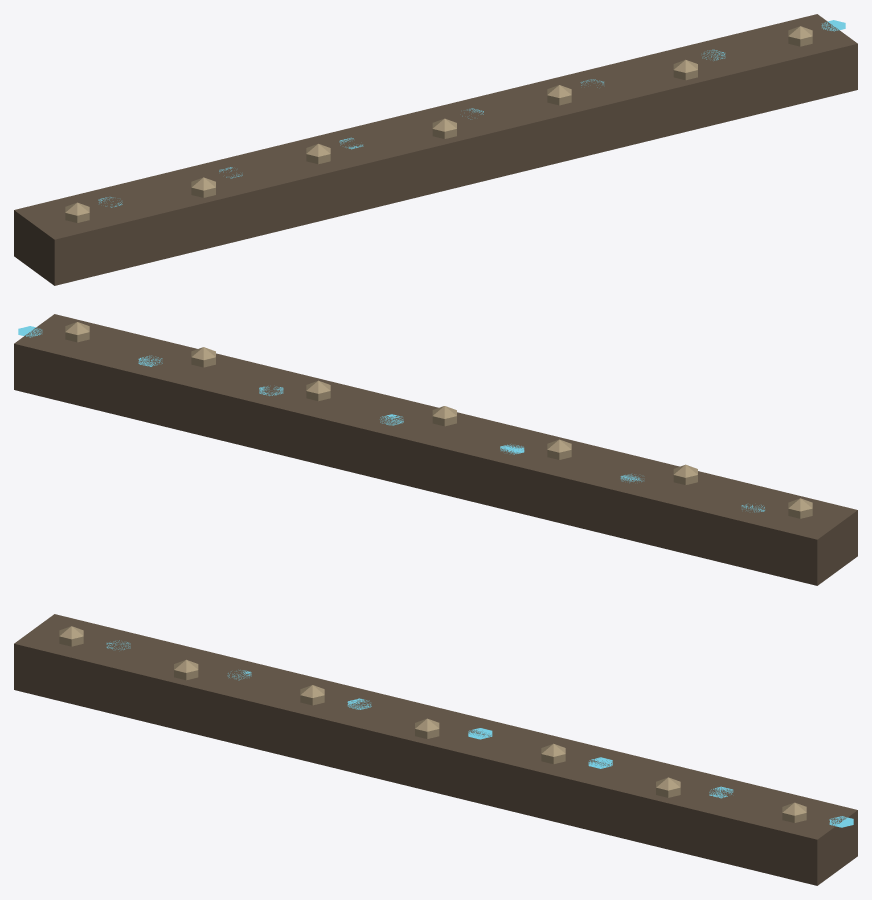
Rendered from overlay_1.fbx.
The picture shows the model from 3 angles, top to bottom: view 1: azimuth 30°, elevation 25°; view 2: azimuth 150°, elevation 25°; view 3: azimuth 330°, elevation 25°; orthographic projection.
Parts seen in each view (by area): view 1: overlay_1; view 2: overlay_1; view 3: overlay_1.
Part boxes in pixels (<box>): overlay_1: <box>14,14,857,285</box>; overlay_1: <box>14,314,857,585</box>; overlay_1: <box>14,614,857,885</box>.
Size of the model in its own units: 4.06 by 0.29 by 0.35.
